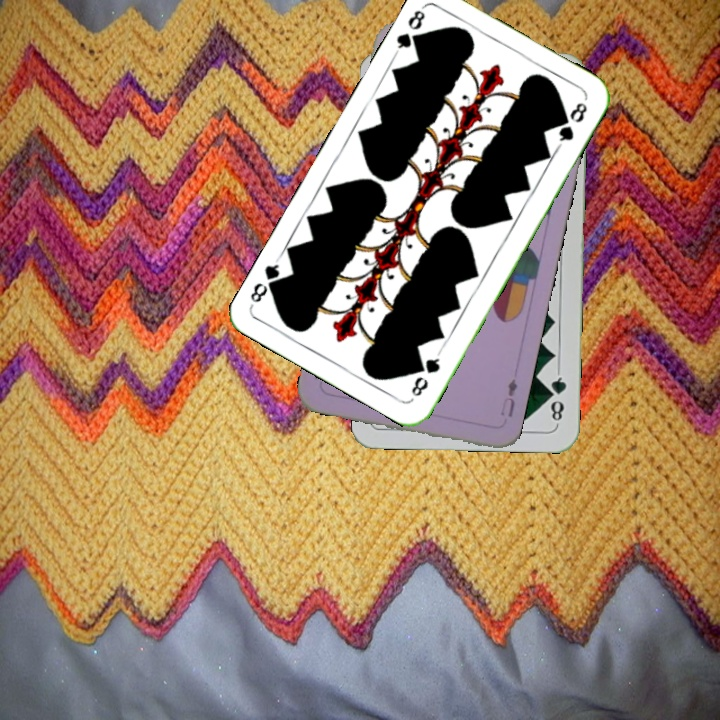EU: (496, 375, 521, 419)
G8: (390, 3, 428, 57), (407, 348, 443, 399), (545, 368, 569, 427)
